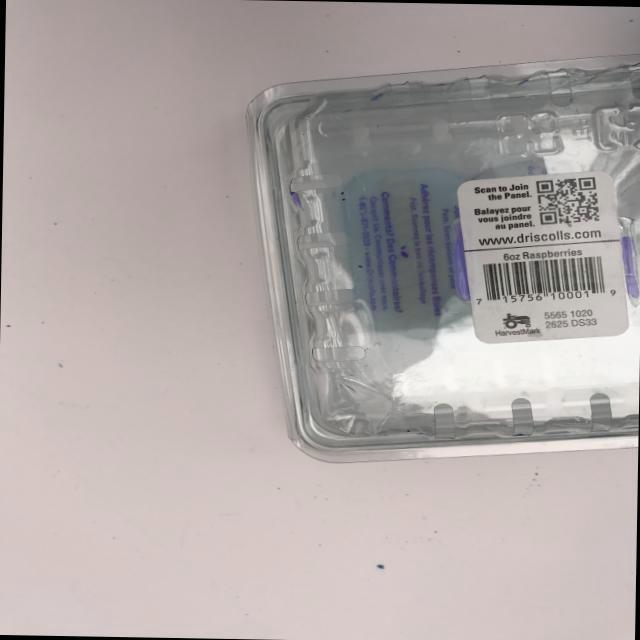plastic: (213, 30, 640, 483)
